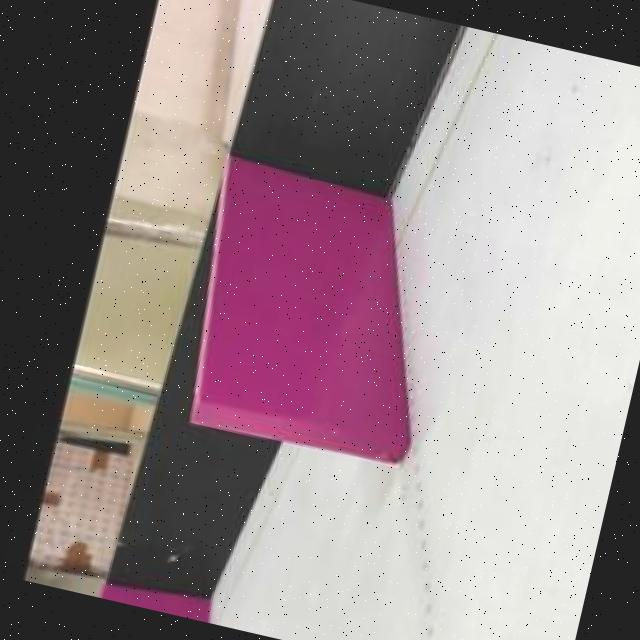xparking: (198, 167, 438, 442), (102, 586, 202, 620)
